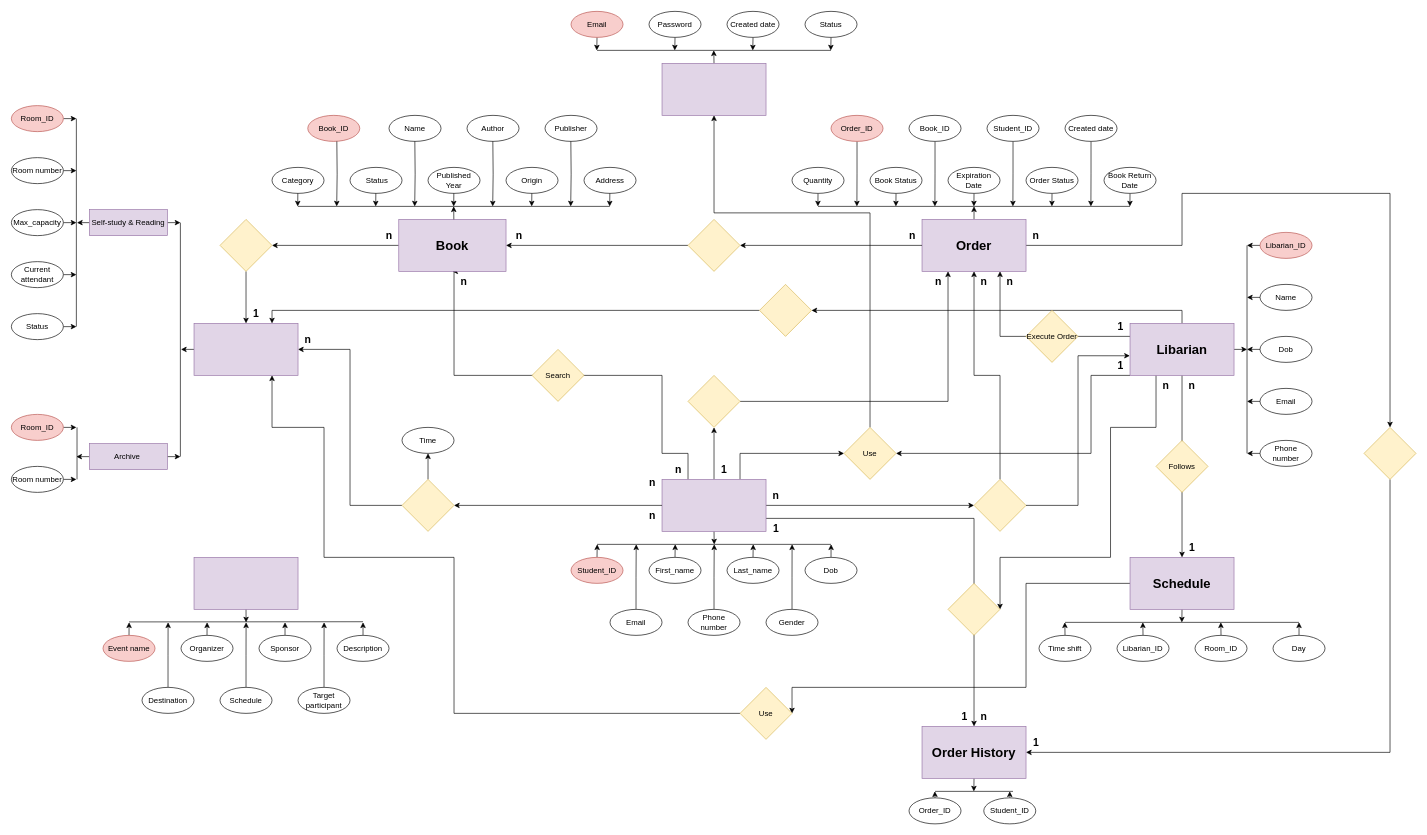
The diagram is 1427 pixels wide and 835 high, and some of its shapes have lost their labels. The shapes that lost their labels are listed below. From the top down, each one's box as (x1, y1, x2, y2) in pixels, then its label:
(661, 63, 766, 115): Account
(219, 219, 272, 271): Stored in
(687, 219, 740, 271): Contains
(759, 284, 812, 336): Manage
(193, 323, 298, 375): Room
(687, 375, 740, 427): Book Order
(1363, 427, 1416, 479): Recorded
(401, 479, 454, 531): Check in/Check out
(661, 479, 766, 531): Student
(973, 479, 1026, 531): Receive/ Return Book
(193, 557, 298, 609): Event
(947, 583, 1000, 635): Read
